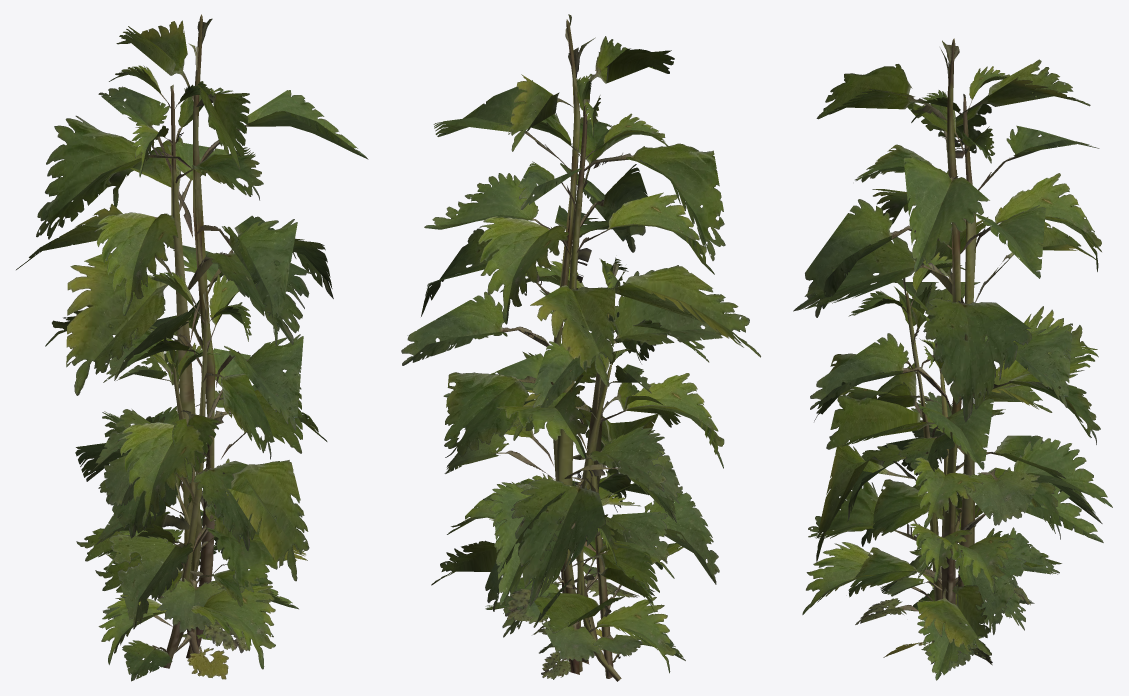
Rendered from ortie.glb.
3 views of the same model, side by side, from view 1: azimuth 30°, elevation 25°; view 2: azimuth 150°, elevation 25°; view 3: azimuth 270°, elevation 25° (orthographic). The views are drawn at different scales.
Parts seen in each view (by area): view 1: nettle_plant_tall_a_LOD0, nettle_plant_medium_a_LOD0, nettle_plant_tall_b_LOD0, nettle_plant_medium_b_LOD0, nettle_plant_small_a_LOD0; view 2: nettle_plant_tall_a_LOD0, nettle_plant_tall_b_LOD0, nettle_plant_medium_a_LOD0, nettle_plant_medium_b_LOD0, nettle_plant_small_a_LOD0; view 3: nettle_plant_tall_a_LOD0, nettle_plant_tall_b_LOD0, nettle_plant_medium_a_LOD0, nettle_plant_medium_b_LOD0, nettle_plant_small_a_LOD0.
Part boxes in pixels (<box>): nettle_plant_tall_a_LOD0: <box>36,14,368,658</box>; nettle_plant_medium_a_LOD0: <box>75,272,309,681</box>; nettle_plant_tall_b_LOD0: <box>16,65,312,653</box>; nettle_plant_medium_b_LOD0: <box>95,342,290,651</box>; nettle_plant_small_a_LOD0: <box>98,474,298,679</box>; nettle_plant_tall_a_LOD0: <box>421,14,760,674</box>; nettle_plant_tall_b_LOD0: <box>401,74,722,664</box>; nettle_plant_medium_a_LOD0: <box>443,257,724,678</box>; nettle_plant_medium_b_LOD0: <box>483,348,680,681</box>; nettle_plant_small_a_LOD0: <box>485,479,676,679</box>; nettle_plant_tall_a_LOD0: <box>805,38,1103,666</box>; nettle_plant_tall_b_LOD0: <box>793,66,1112,664</box>; nettle_plant_medium_a_LOD0: <box>802,252,1102,670</box>; nettle_plant_medium_b_LOD0: <box>847,338,1060,652</box>; nettle_plant_small_a_LOD0: <box>880,492,1025,680</box>.
Size of the model in its own units: 0.1031 by 0.2041 by 0.0947.
1 material, 1 textured.
